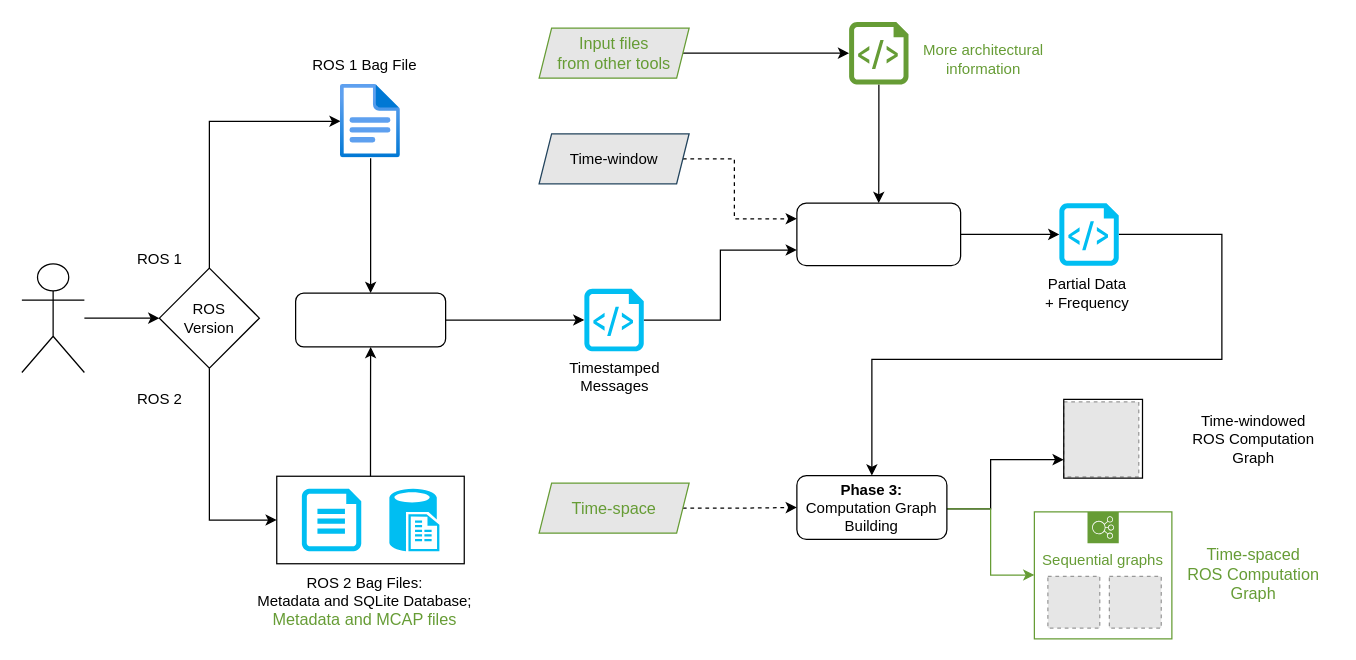
This 1356x660 diagram has some shape labels left out. Grey dashed boxes stand in for pictures. Here are the shapes that lost their labels. From the top down, the centre of each, then its label:
At pixel 878 234: "Phase 2: Time-based Slicing".
At pixel 52 317: "User".
At pixel 370 319: "Phase 1: Rosbag Extraction".
